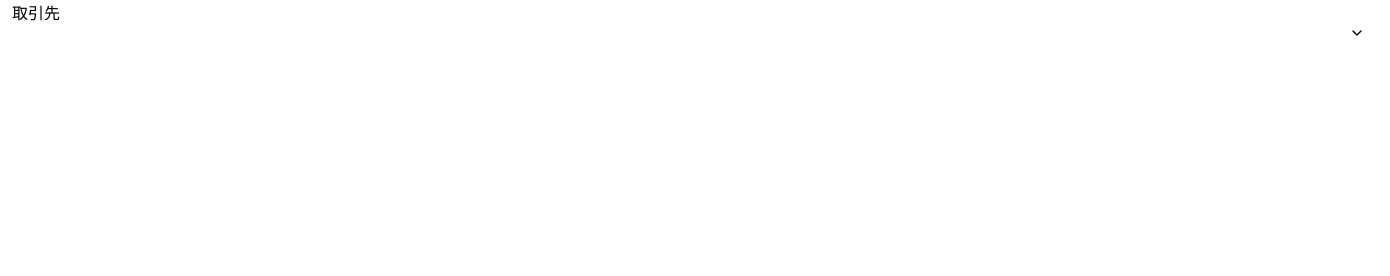
Combobox › chooses with the pointer and marks the chosen option
The image size is (1390, 276).
Click the button named "候補を開く". click: coordinates (1357, 33)
box: x1=1345 y1=21 x2=1369 y2=45
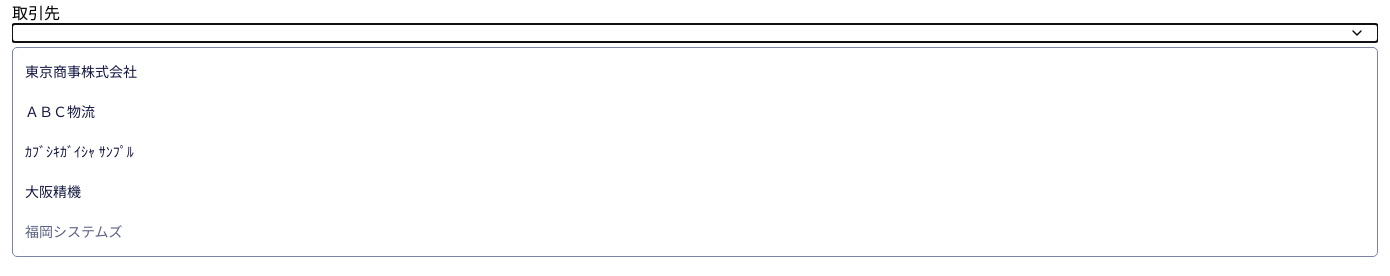
Click the option "ＡＢＣ物流". click: coordinates (60, 112)
box: x1=25 y1=102 x2=95 y2=121
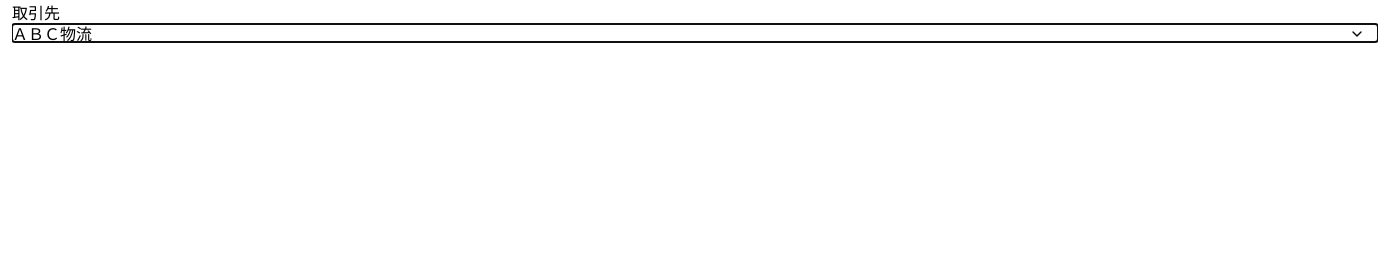
Check: the dropdown labelled "取引先" holds "ＡＢＣ物流", box x1=12 y1=24 x2=1378 y2=42
Click the button named "候補を開く". click: coordinates (1357, 34)
box: x1=1345 y1=22 x2=1369 y2=46
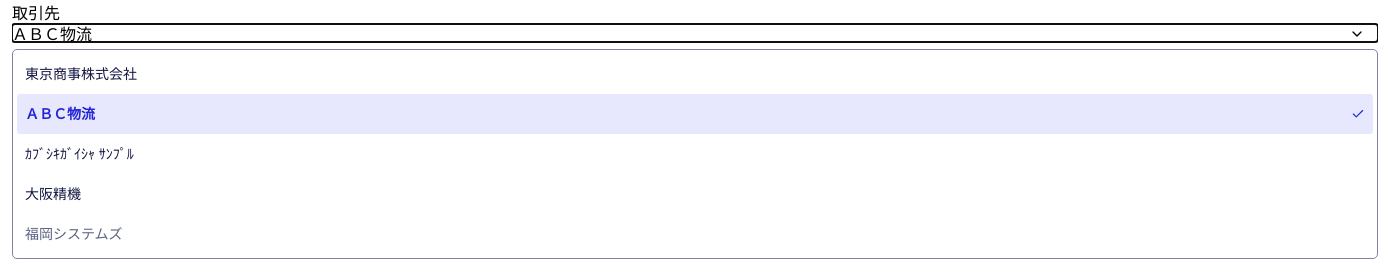
Check: the option "ＡＢＣ物流" is selected, box x1=17 y1=94 x2=1373 y2=134
